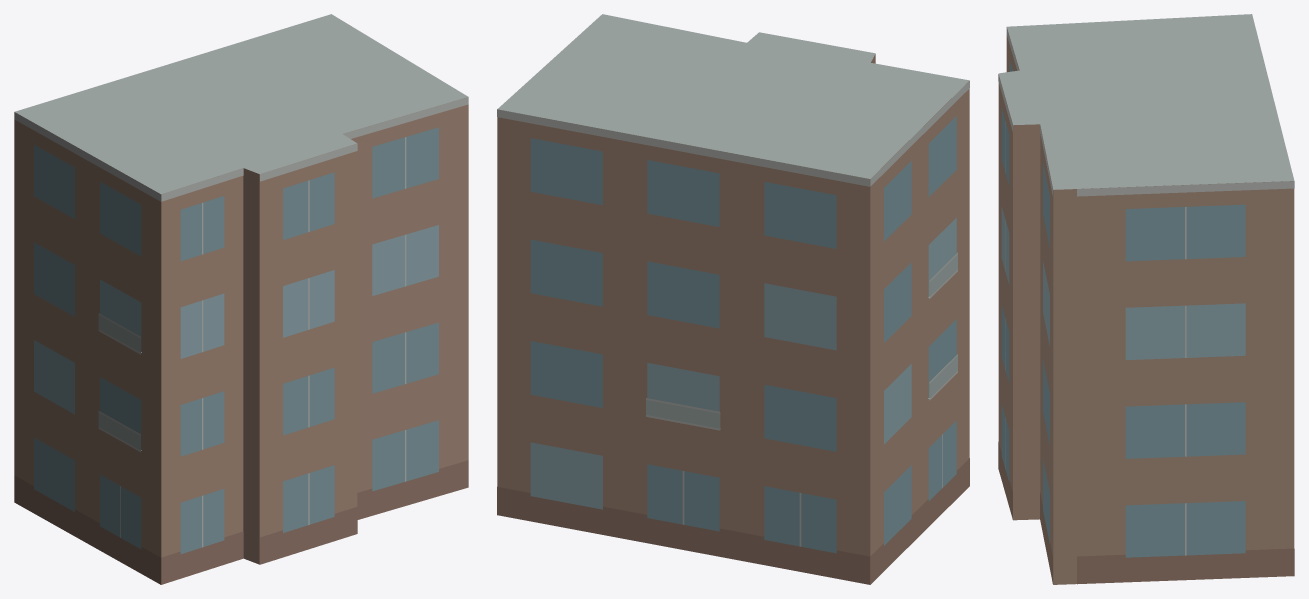
File: survey-upis-32516508.glb
3 views of the same model, side by side, from view 1: azimuth 30°, elevation 25°; view 2: azimuth 150°, elevation 25°; view 3: azimuth 270°, elevation 25° (orthographic). The views are drawn at different scales.
Visible parts, largest first — view 1: survey-upis-32516508.tmp; view 2: survey-upis-32516508.tmp; view 3: survey-upis-32516508.tmp.
Part boxes in pixels (<box>): survey-upis-32516508.tmp: <box>14,14,468,584</box>; survey-upis-32516508.tmp: <box>497,14,969,584</box>; survey-upis-32516508.tmp: <box>998,14,1294,584</box>.
Size of the model in its own units: 12.12 by 12.7 by 8.63.
